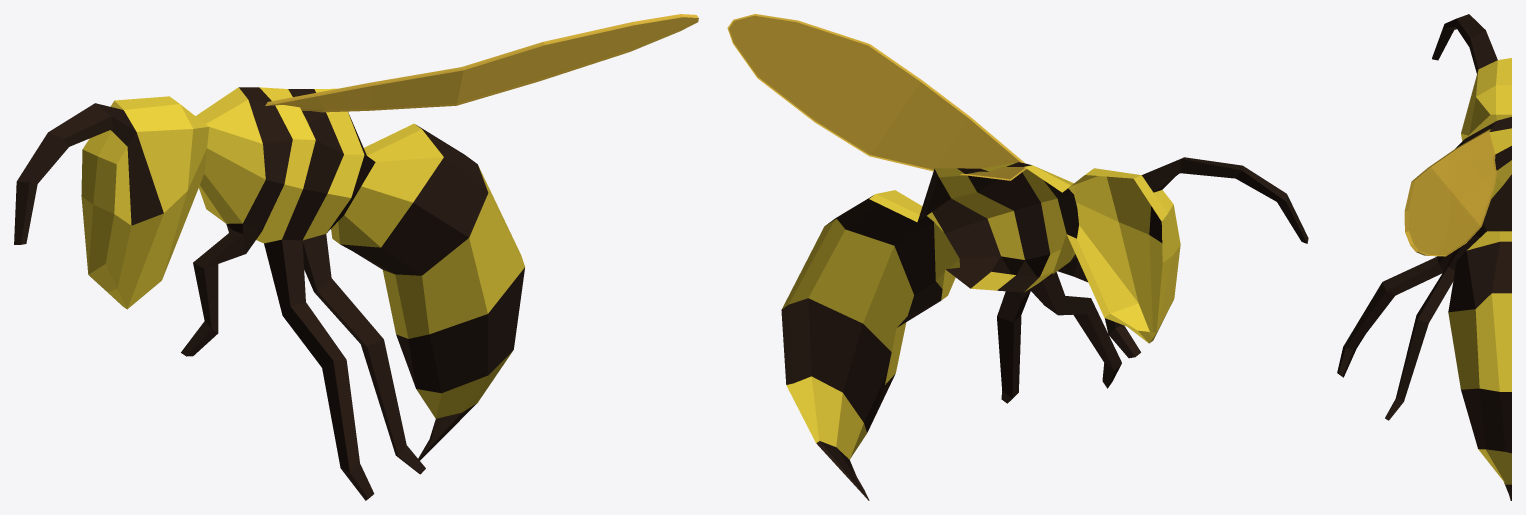
The model's file is stylised wasp 3.fbx.
The picture shows the model from 3 angles, left to right: view 1: azimuth 30°, elevation 25°; view 2: azimuth 150°, elevation 25°; view 3: azimuth 270°, elevation 25°; orthographic projection. The views are drawn at different scales.
Parts seen in each view (by area): view 1: Plane; view 2: Plane; view 3: Plane.
Boxes of the visible parts, x1,y1,x2,y2 form: Plane: (14,14,698,500); Plane: (727,14,1308,500); Plane: (1337,14,1511,500).
Bounding box in the file's own units: 407 × 265 × 121.
